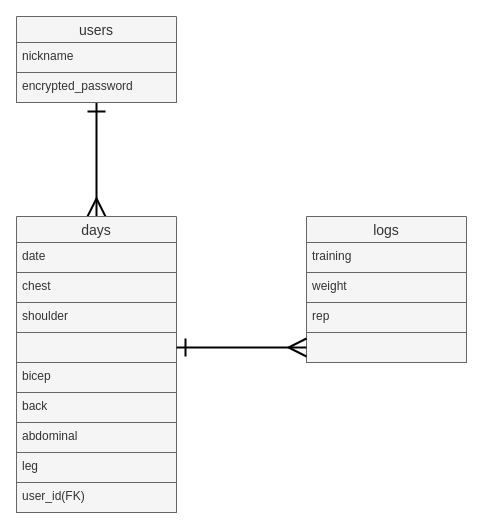
Some shapes in this 483 by 529 pixel diagram are drawn without their labels. Each missing label, with the centre of its shape:
"day_id(FK)" belongs at (386,347).
"tricep" belongs at (96,347).
